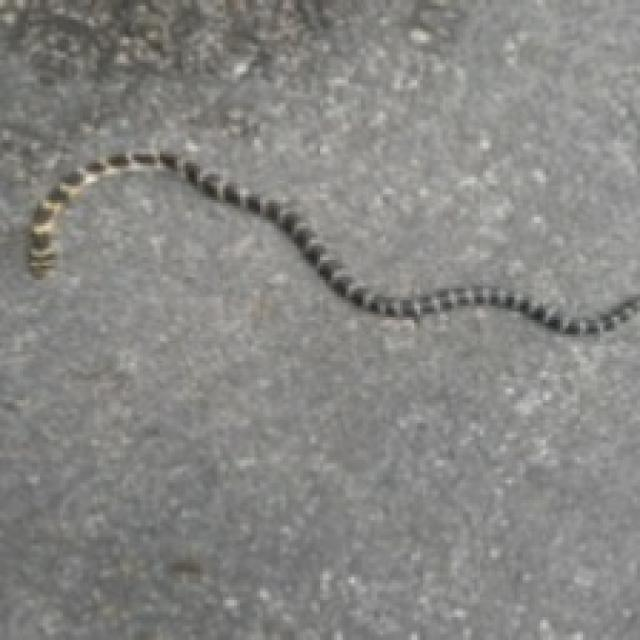king cobra: (26, 151, 637, 331)
